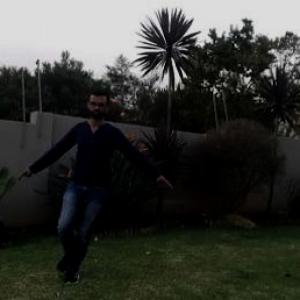land: (31, 92, 176, 268)
